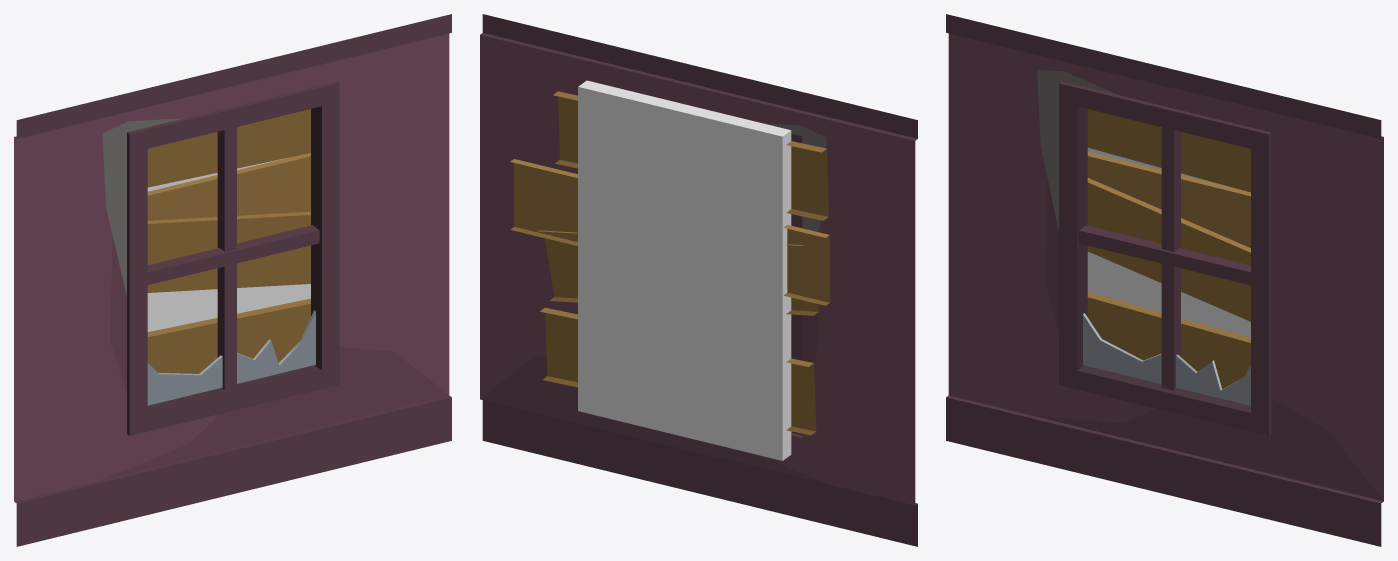
The model's file is AI_Env_Wall_Pink_Window_02.fbx.
3 views of the same model, side by side, from view 1: azimuth 30°, elevation 25°; view 2: azimuth 150°, elevation 25°; view 3: azimuth 330°, elevation 25° (orthographic).
Visible parts, largest first — view 1: AI_Env_Wall_Pink_Window_02; view 2: AI_Env_Wall_Pink_Window_02; view 3: AI_Env_Wall_Pink_Window_02.
Boxes of the visible parts, left/top/right/bottom form: AI_Env_Wall_Pink_Window_02: left=14, top=14, right=451, bottom=546; AI_Env_Wall_Pink_Window_02: left=480, top=14, right=917, bottom=546; AI_Env_Wall_Pink_Window_02: left=946, top=14, right=1383, bottom=546.
Size of the model in its own units: 5 by 4.69 by 0.3888.
